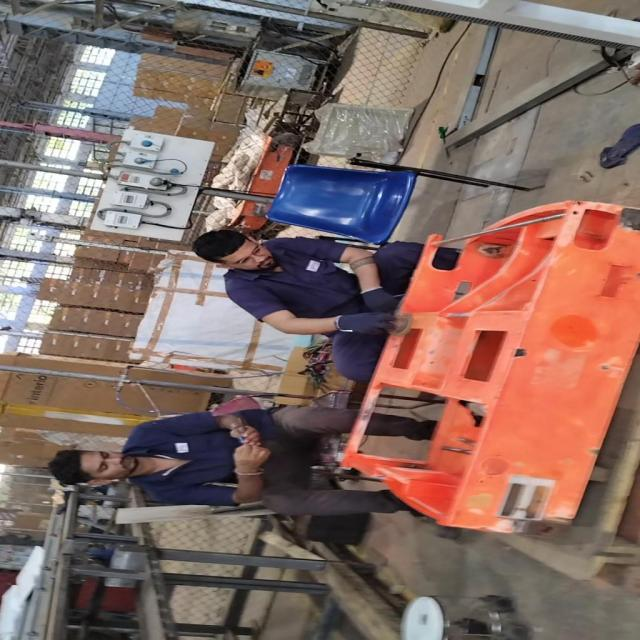Gloves-Detection: (332, 290, 409, 344)
